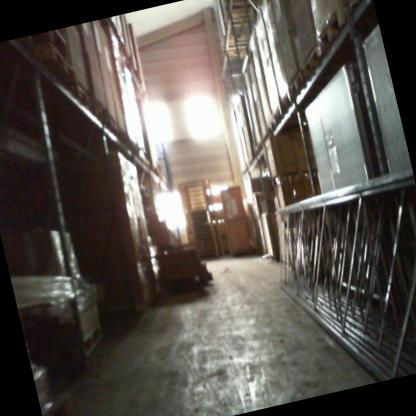pallet: (226, 10, 255, 166), (312, 5, 370, 57), (33, 40, 79, 92), (298, 44, 330, 82), (67, 79, 94, 116), (80, 322, 107, 357), (90, 94, 112, 132), (284, 69, 310, 100), (222, 32, 250, 50), (278, 91, 296, 116), (229, 0, 258, 15), (272, 171, 302, 185), (105, 113, 120, 138), (223, 44, 246, 60), (348, 0, 375, 13), (300, 166, 320, 181), (271, 104, 285, 125), (266, 119, 278, 135), (261, 131, 271, 144), (258, 139, 266, 150), (253, 146, 261, 155)
